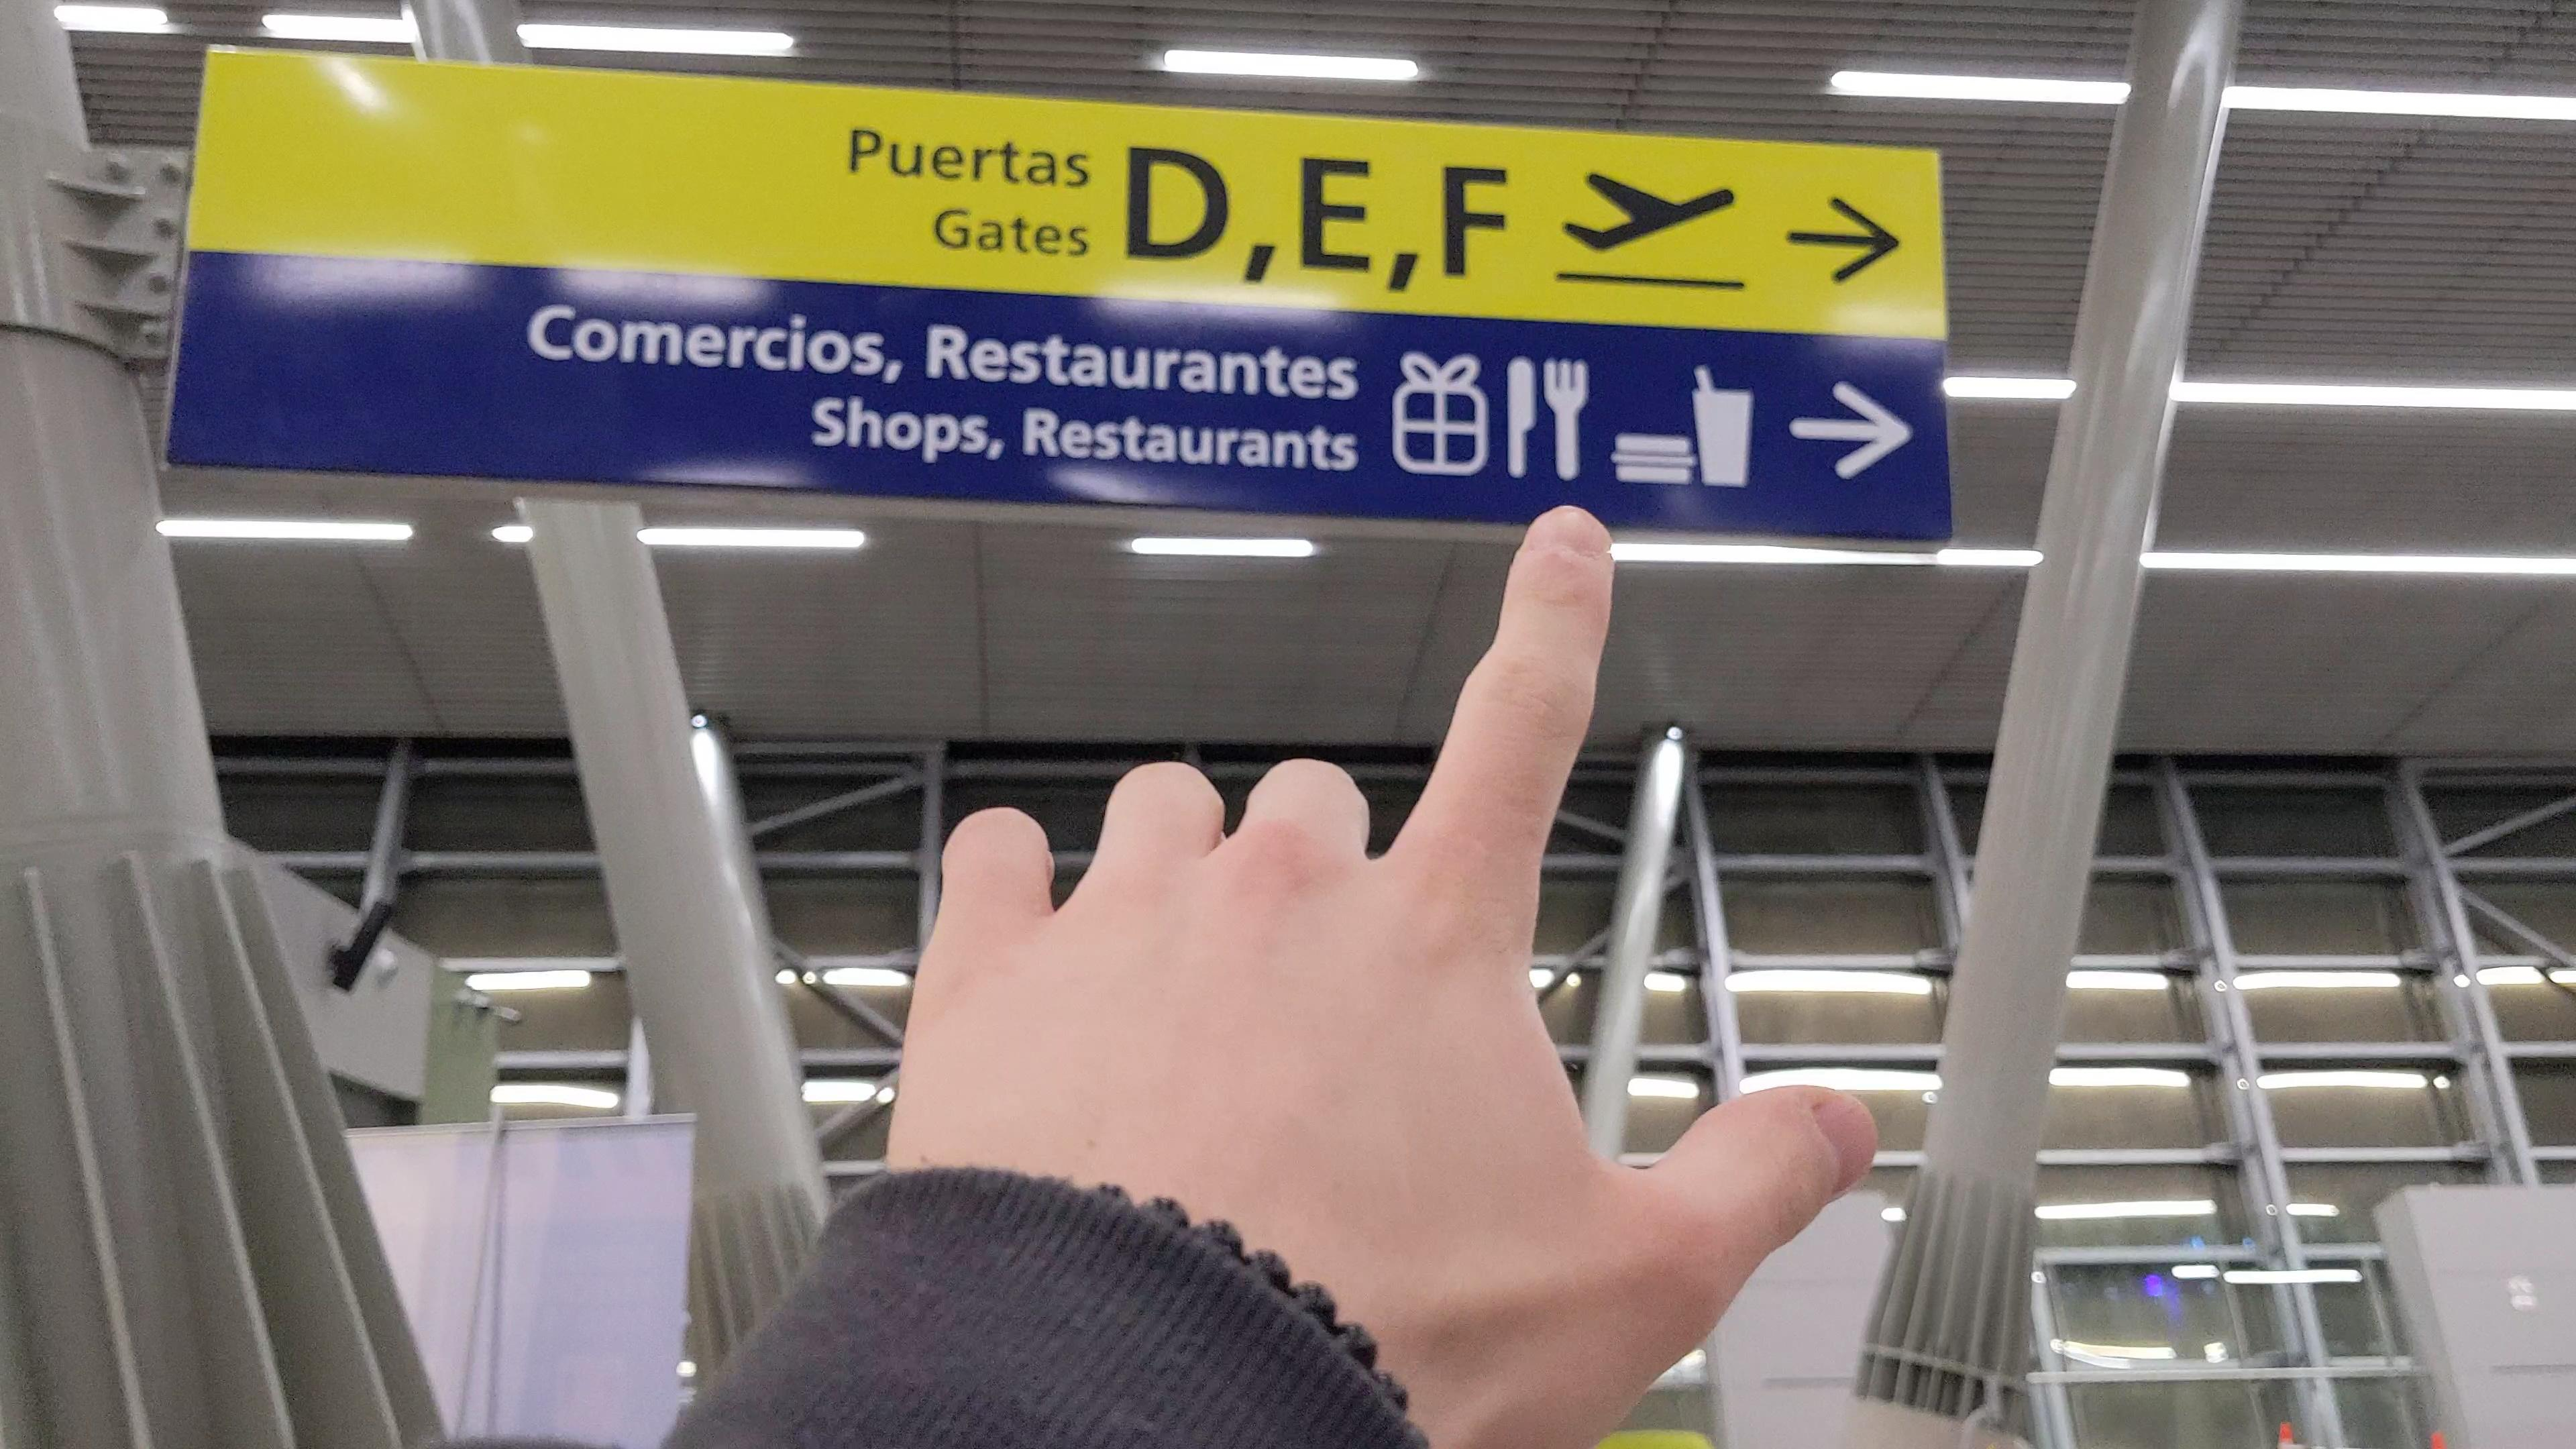airplane symbol: (1557, 157, 1755, 265)
restaurants: (1499, 349, 1591, 494)
thin right arrow: (1782, 375, 1914, 485), (1778, 195, 1909, 290)
